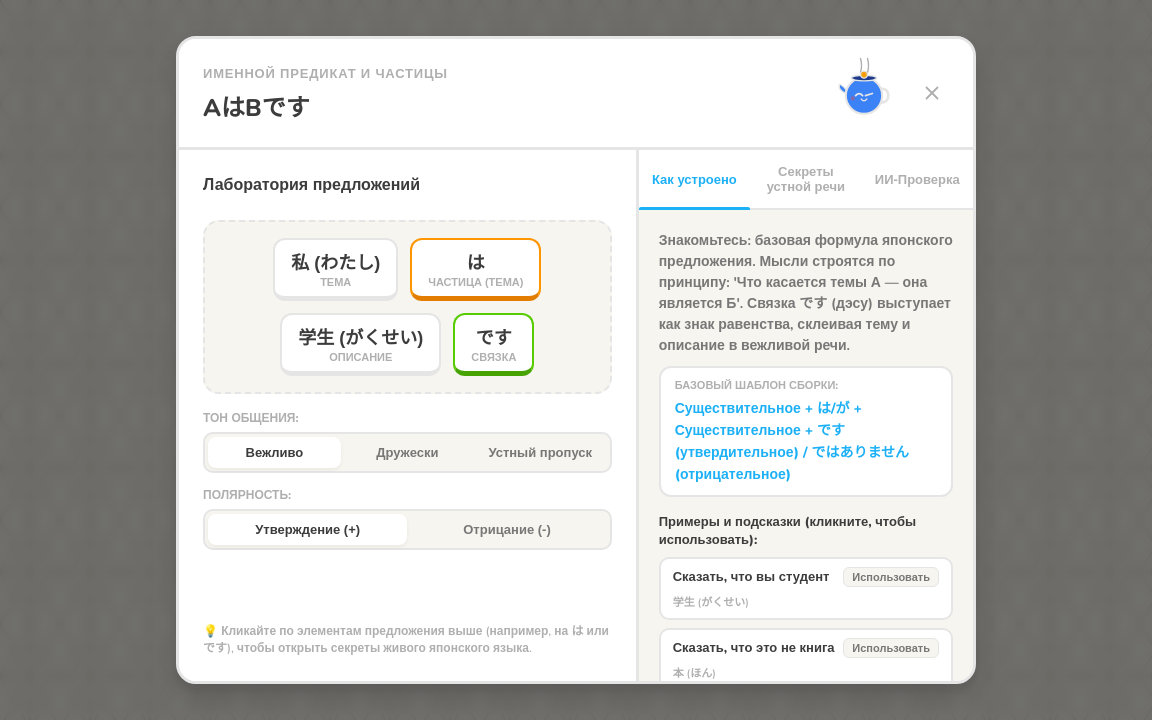
Test: GrammarTrainer Component › toggles tabs correctly
# Переключаем на вкладку «Секреты устной речи»
Click the button "Секреты устной речи" at x=806, y=179, box [750, 150, 862, 208]
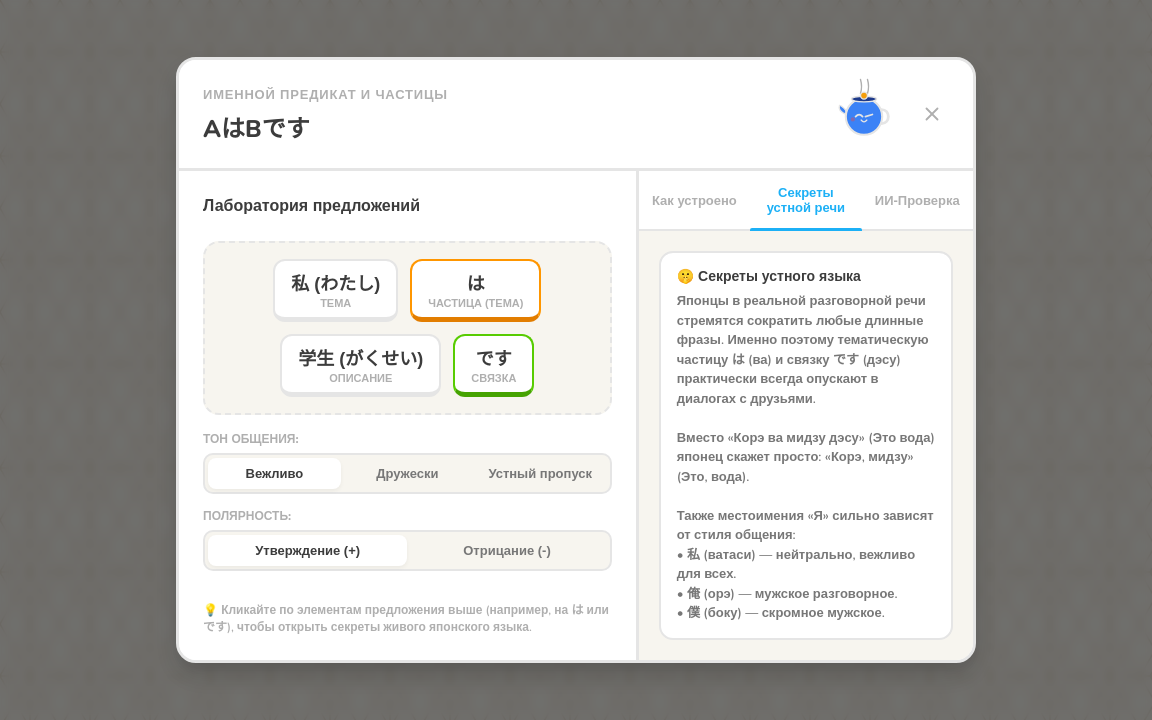
Now the heading "🤫 Секреты устного языка" is shown, box [677, 267, 861, 286]
Now the text "частицу は" is shown, box [677, 292, 935, 622]
# Переключаем на вкладку «ИИ-Проверка»
Click the button "ИИ-Проверка" at x=917, y=200, box [862, 171, 973, 229]
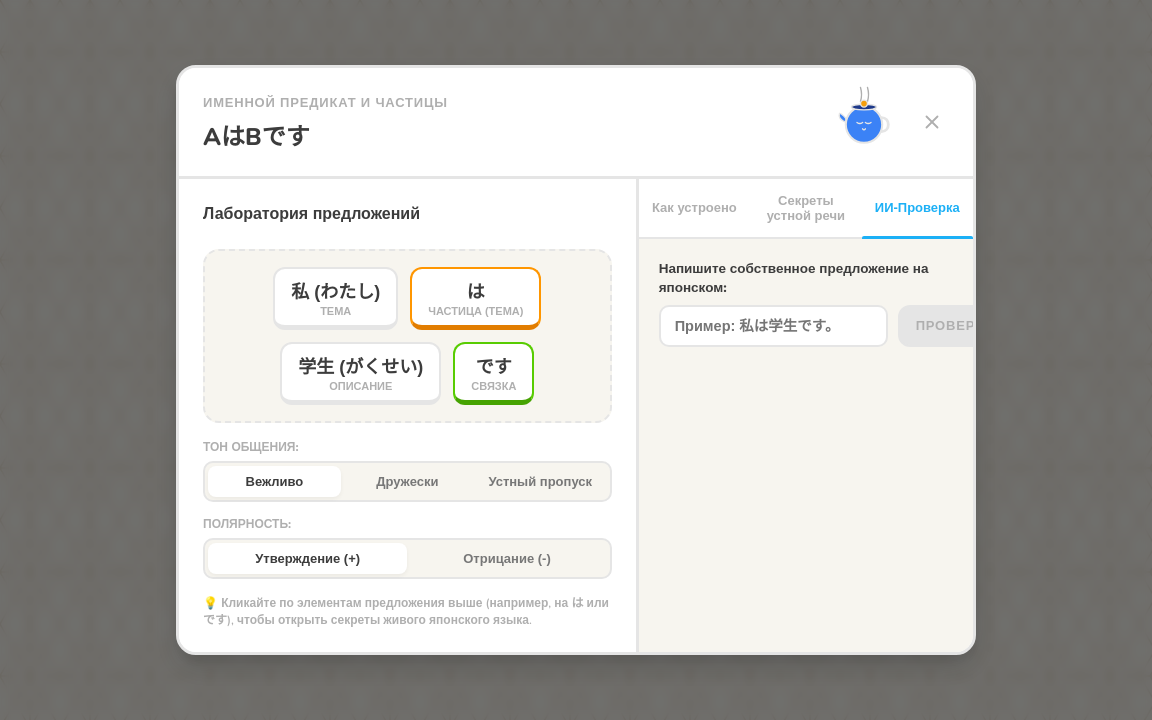
Now the field with placeholder "Пример: 私は学生です。" is shown, box [659, 305, 888, 347]
